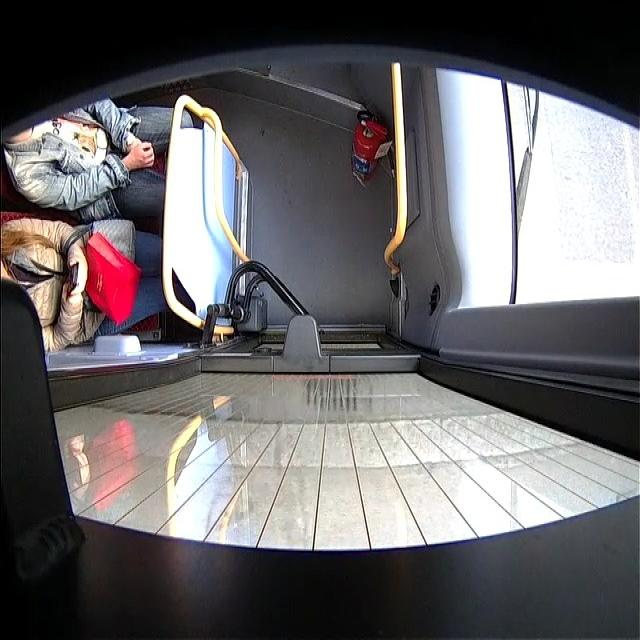bus-door: (0, 282, 640, 637)
